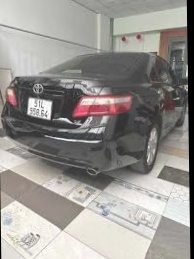Bien-so: (35, 103, 61, 125)
